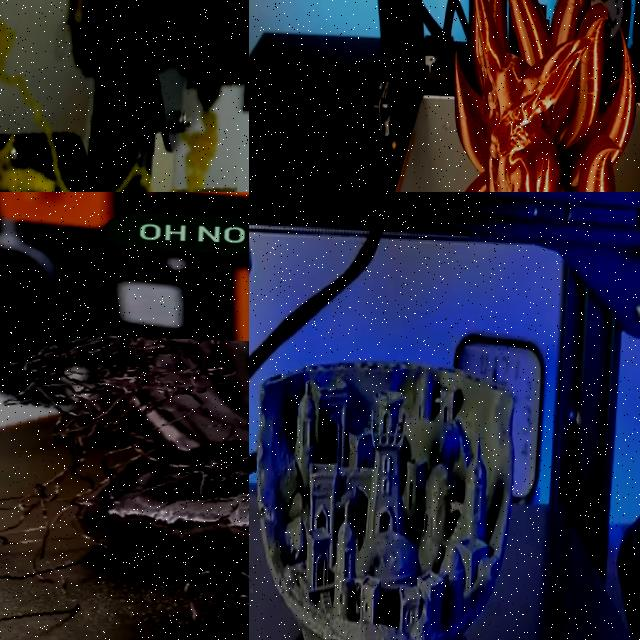spaghetti: (0, 329, 249, 640), (0, 22, 73, 192)
